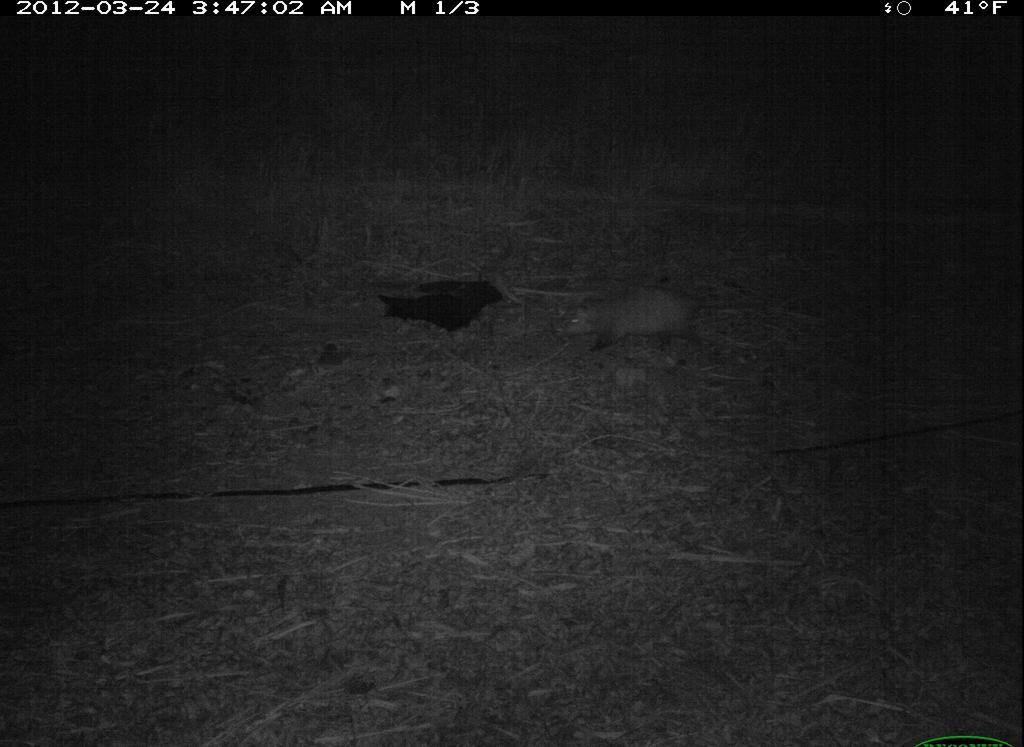opossum: (545, 272, 760, 395)
